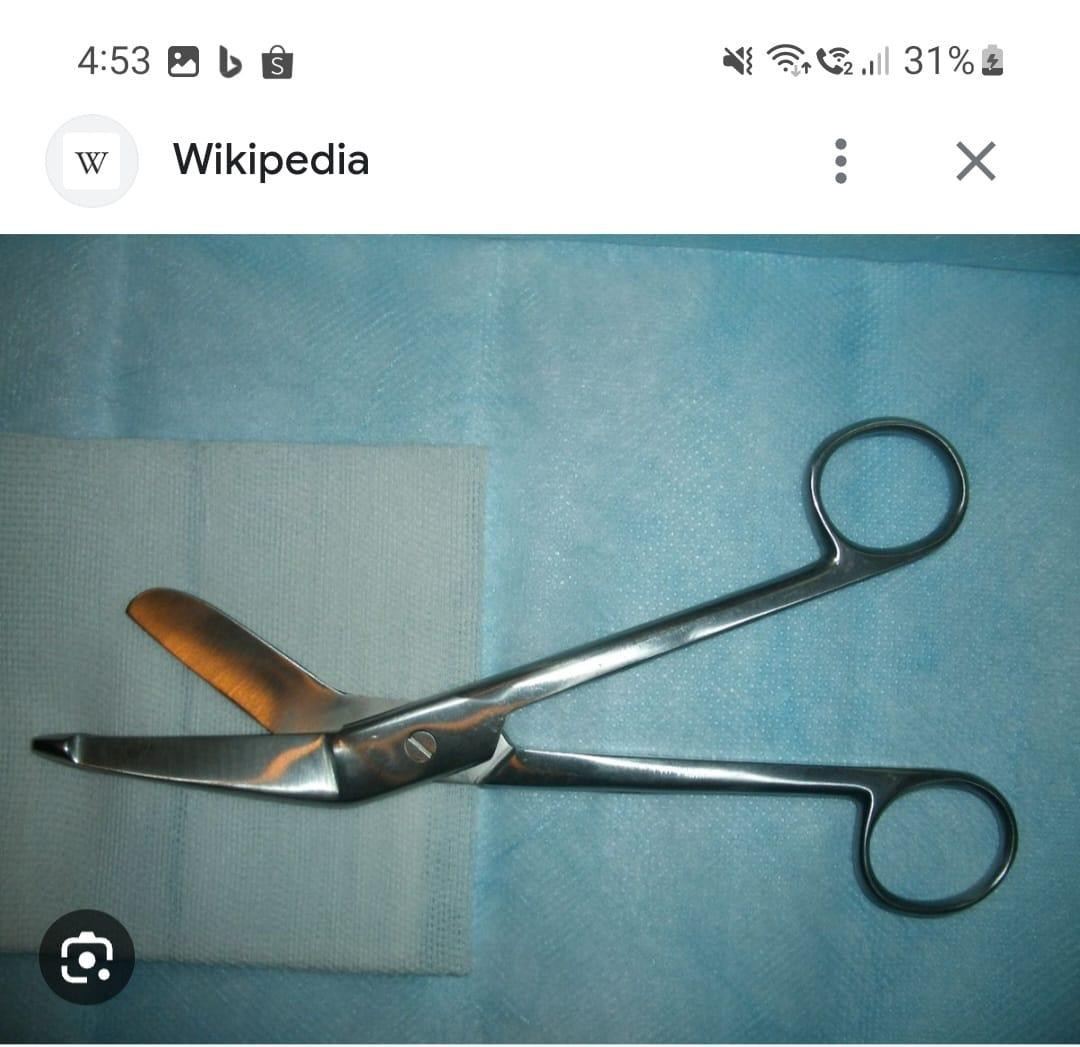Bandage Sciccors: (15, 400, 1025, 938)
